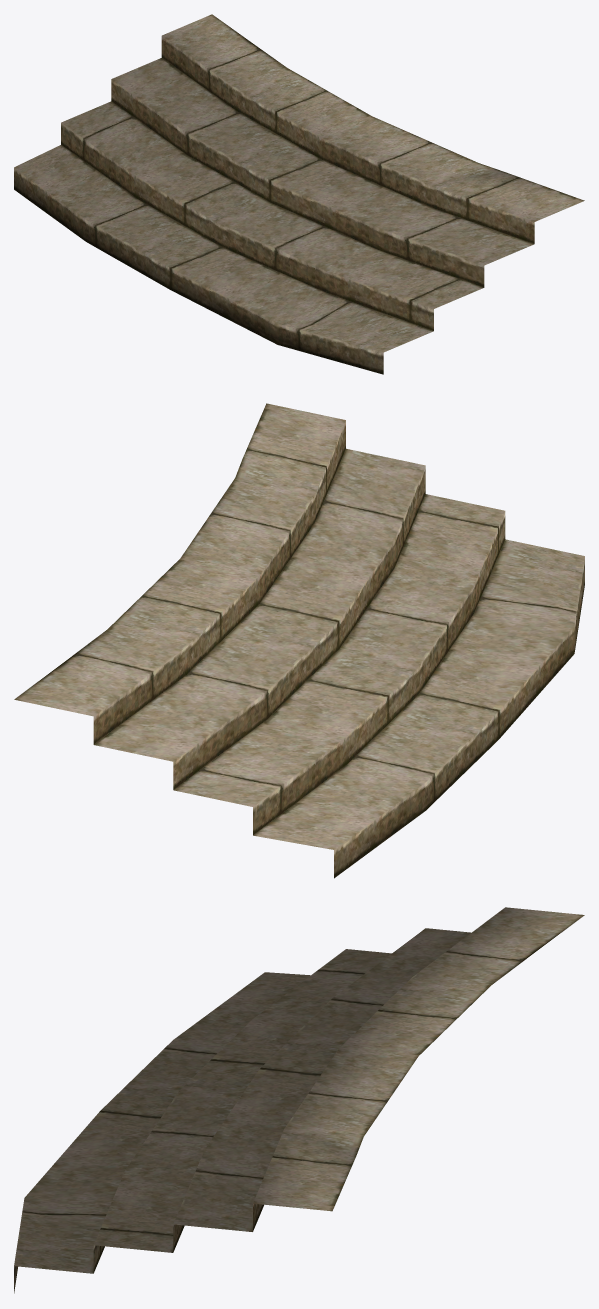
Rendered from EKH_THRONE_PS_TH_STEPS_01.fbx.
3 renders of one model, top to bottom at view 1: azimuth 30°, elevation 25°; view 2: azimuth 150°, elevation 25°; view 3: azimuth 330°, elevation 25°, orthographic. The views are drawn at different scales.
Visible parts, largest first — view 1: EKH_THRONE_PS_TH_STEPS_01; view 2: EKH_THRONE_PS_TH_STEPS_01; view 3: EKH_THRONE_PS_TH_STEPS_01.
Boxes of the visible parts, x1,y1,x2,y2 form: EKH_THRONE_PS_TH_STEPS_01: (14,14,584,374); EKH_THRONE_PS_TH_STEPS_01: (14,403,584,878); EKH_THRONE_PS_TH_STEPS_01: (14,907,584,1293).
Bounding box in the file's own units: 40839 × 12845 × 69707.
Materials: 1 (1 with a texture image).
